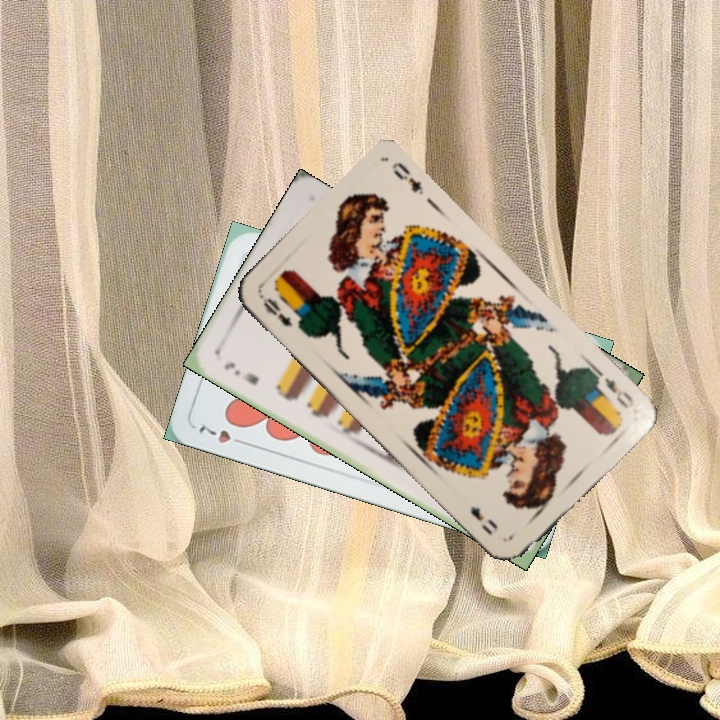E7: (220, 358, 262, 388)
EO: (590, 366, 637, 411), (255, 291, 295, 329)
H7: (194, 421, 250, 448)
